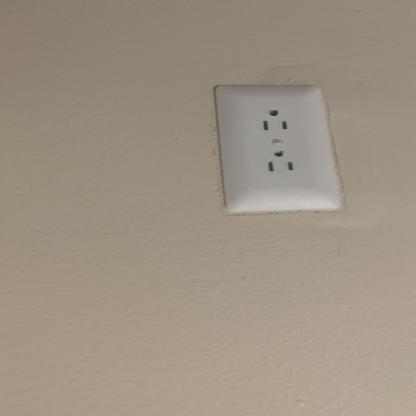OUTLET: (218, 85, 328, 212)
